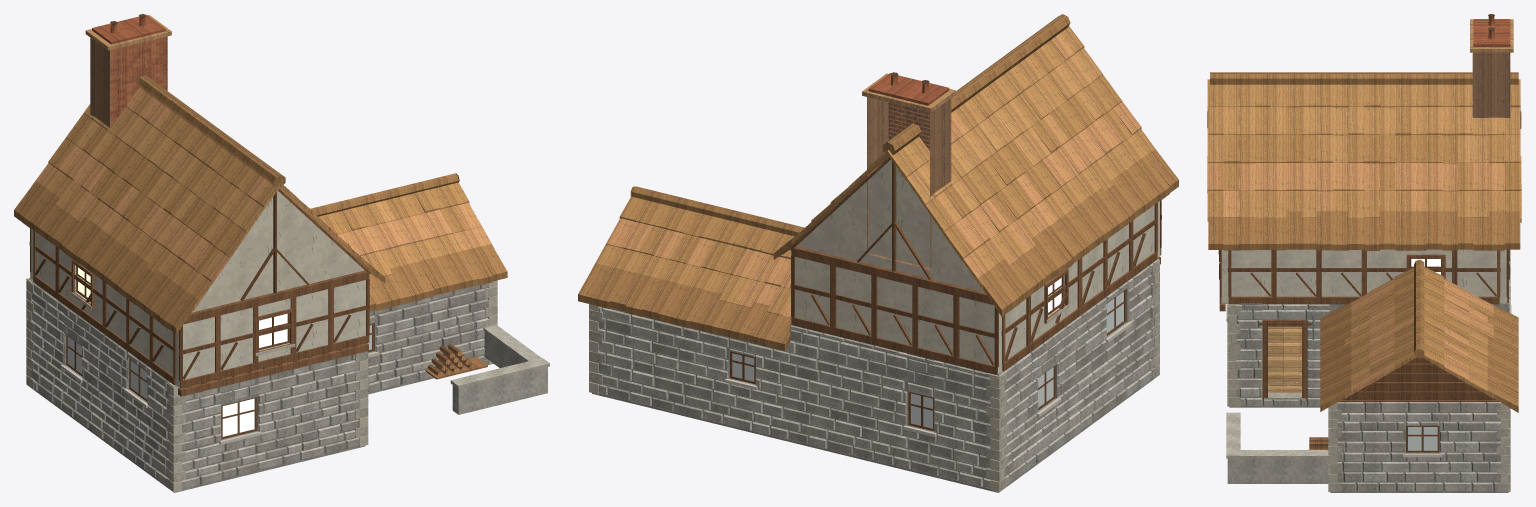
Rendered from kitchen-character.glb.
The picture shows the model from 3 angles, left to right: view 1: azimuth 30°, elevation 25°; view 2: azimuth 150°, elevation 25°; view 3: azimuth 270°, elevation 25°; orthographic projection. The views are drawn at different scales.
Parts seen in each view (by area): view 1: Kitchen_Roof_Thatch, Kitchen_Shell_Facing, Kitchen_UpperShell_Frame, Kitchen_Roof_Gables, Kitchen_Shell_Walls, Kitchen_Chimney_Stack, Kitchen_Court_Dressing, Kitchen_Shell_Quoins, Kitchen_Glazing_Windows, Kitchen_UpperShell_Glazing; view 2: Kitchen_Roof_Thatch, Kitchen_Shell_Facing, Kitchen_UpperShell_Frame, Kitchen_Roof_Gables, Kitchen_Shell_Walls, Kitchen_Chimney_Stack, Kitchen_Shell_Quoins, Kitchen_Glazing_Windows; view 3: Kitchen_Roof_Thatch, Kitchen_Shell_Facing, Kitchen_UpperShell_Frame, Kitchen_Court_Dressing, Kitchen_Shell_Walls, Kitchen_Chimney_Stack, Kitchen_Roof_StoreGable, Kitchen_Shell_Quoins, Kitchen_Floor_Flags, Kitchen_Glazing_Windows, Kitchen_Shell_DoorFrame.
Part boxes in pixels (box(x1,y1,x2,y2)): Kitchen_Roof_Thatch: box(14, 75, 507, 334); Kitchen_Shell_Facing: box(28, 282, 493, 488); Kitchen_UpperShell_Frame: box(29, 228, 369, 396); Kitchen_Roof_Gables: box(188, 189, 370, 317); Kitchen_Shell_Walls: box(29, 278, 493, 492); Kitchen_Chimney_Stack: box(85, 14, 171, 128); Kitchen_Court_Dressing: box(425, 325, 549, 414); Kitchen_Shell_Quoins: box(26, 278, 497, 492); Kitchen_Glazing_Windows: box(61, 323, 378, 444); Kitchen_UpperShell_Glazing: box(71, 266, 295, 356); Kitchen_Roof_Thatch: box(578, 14, 1178, 350); Kitchen_Shell_Facing: box(593, 263, 1157, 488); Kitchen_UpperShell_Frame: box(790, 200, 1161, 374); Kitchen_Roof_Gables: box(789, 157, 988, 297); Kitchen_Shell_Walls: box(592, 273, 1152, 492); Kitchen_Chimney_Stack: box(862, 72, 955, 269); Kitchen_Shell_Quoins: box(589, 259, 1159, 492); Kitchen_Glazing_Windows: box(725, 289, 1131, 437); Kitchen_Roof_Thatch: box(1207, 72, 1521, 412); Kitchen_Shell_Facing: box(1230, 250, 1510, 490); Kitchen_UpperShell_Frame: box(1219, 249, 1509, 311); Kitchen_Court_Dressing: box(1226, 315, 1328, 483); Kitchen_Shell_Walls: box(1229, 303, 1508, 492); Kitchen_Chimney_Stack: box(1470, 14, 1513, 117); Kitchen_Roof_StoreGable: box(1338, 357, 1499, 401); Kitchen_Shell_Quoins: box(1227, 250, 1510, 491); Kitchen_Floor_Flags: box(1268, 326, 1301, 392); Kitchen_Glazing_Windows: box(1226, 304, 1511, 457); Kitchen_Shell_DoorFrame: box(1258, 320, 1311, 399).
Bounding box in the file's own units: 12.88 × 11.1 × 9.35.
18 materials, 4 textured.
